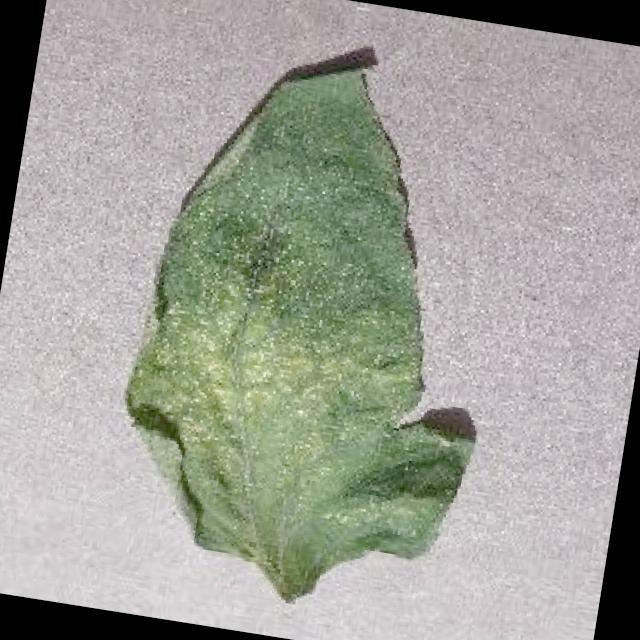Tomato spider mites leaf: (100, 32, 528, 629)
